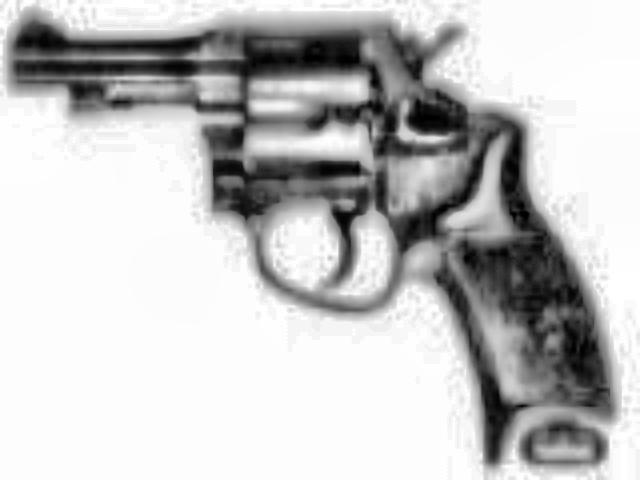pistol: (8, 8, 612, 468)
